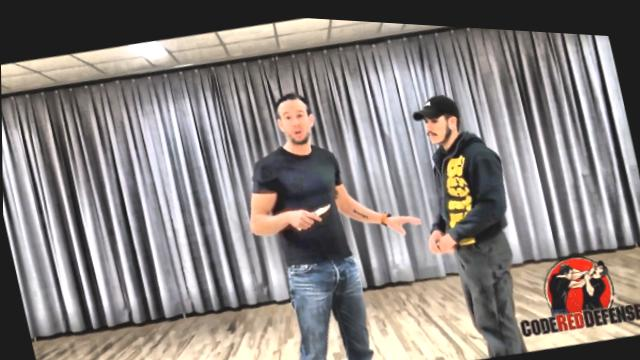knife: (288, 193, 338, 231)
